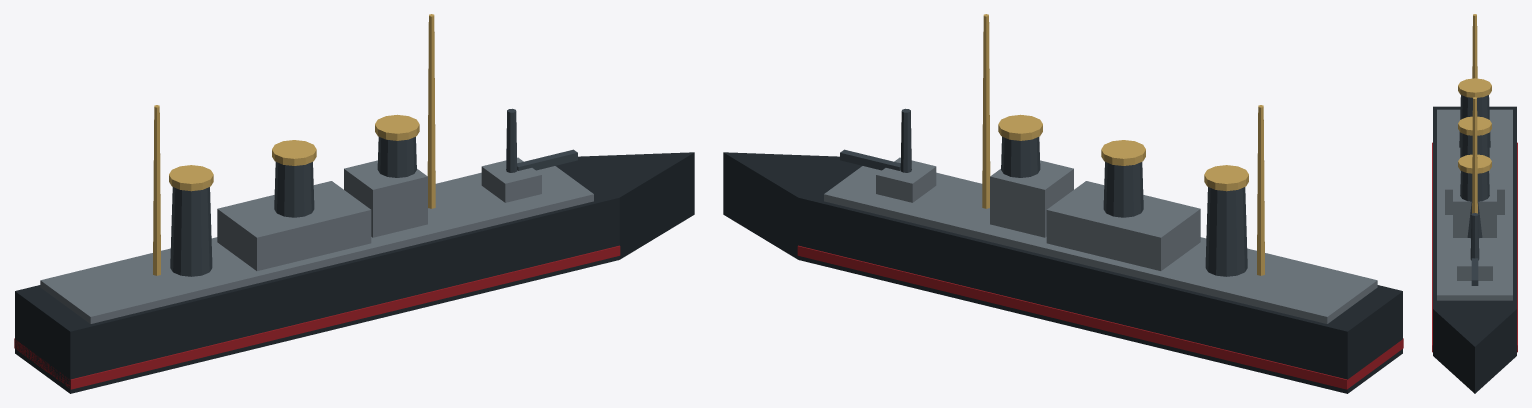
File: aurora.glb
The picture shows the model from 3 angles, left to right: view 1: azimuth 30°, elevation 25°; view 2: azimuth 150°, elevation 25°; view 3: azimuth 270°, elevation 25°; orthographic projection. The views are drawn at different scales.
Parts seen in each view (by area): view 1: aurora; view 2: aurora; view 3: aurora.
Boxes of the visible parts, left/top/right/bottom form: aurora: left=14, top=14, right=694, bottom=393; aurora: left=723, top=14, right=1403, bottom=393; aurora: left=1432, top=14, right=1517, bottom=393.
Size of the model in its own units: 28.5 by 11 by 4.3.
